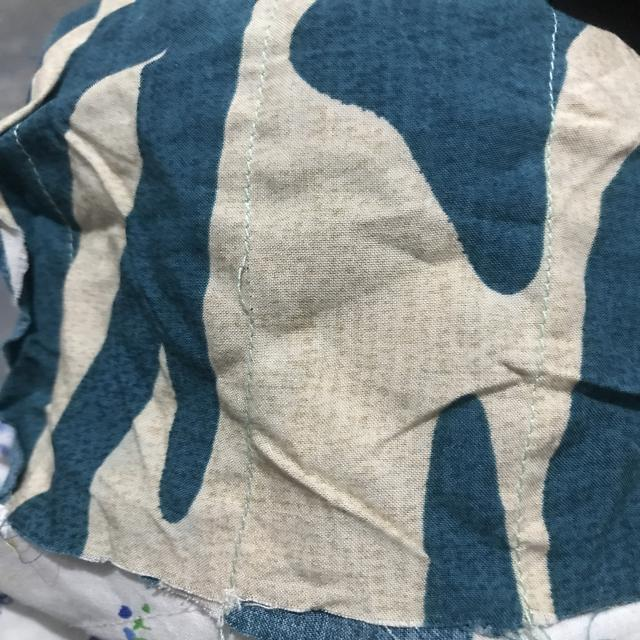skip: (218, 240, 279, 335)
